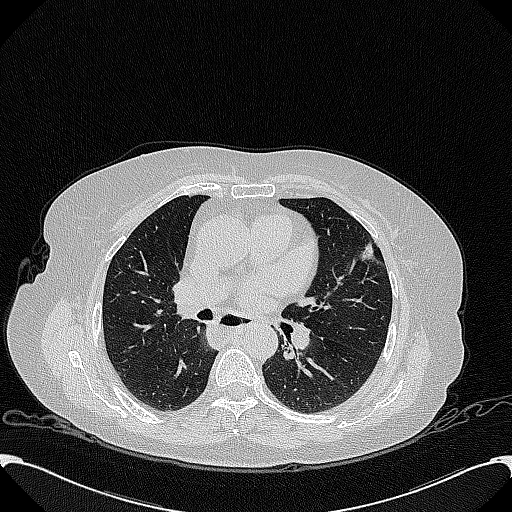nodule: (359, 240, 375, 261)
